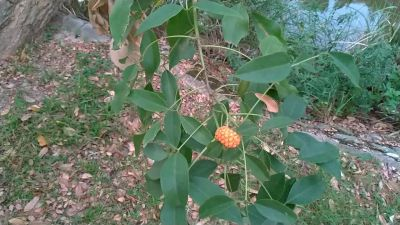eggs: (215, 124, 240, 150)
